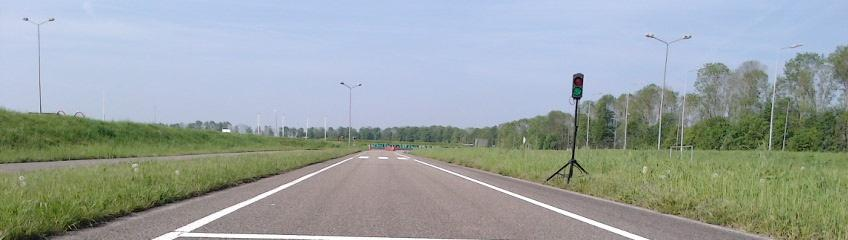TrafficLight-green: (572, 74, 583, 99)
